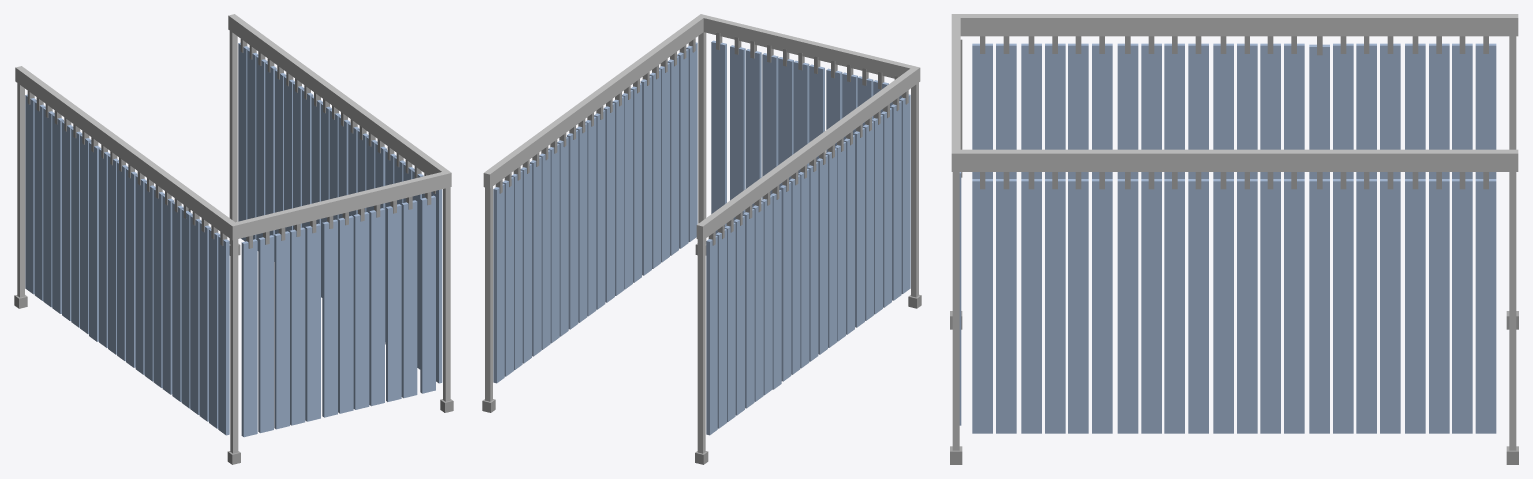
Rendered from screen2_1.fbx.
3 views of the same model, side by side, from view 1: azimuth 30°, elevation 25°; view 2: azimuth 150°, elevation 25°; view 3: azimuth 270°, elevation 25° (orthographic). The views are drawn at different scales.
Visible parts, largest first — view 1: Null_2; view 2: Null_2; view 3: Null_2.
Part boxes in pixels (x1=…): Null_2: x1=14, y1=14, x2=453, y2=464; Null_2: x1=482, y1=14, x2=921, y2=464; Null_2: x1=950, y1=14, x2=1518, y2=464.
Bounding box in the file's own units: 77.86 × 80.04 × 133.
